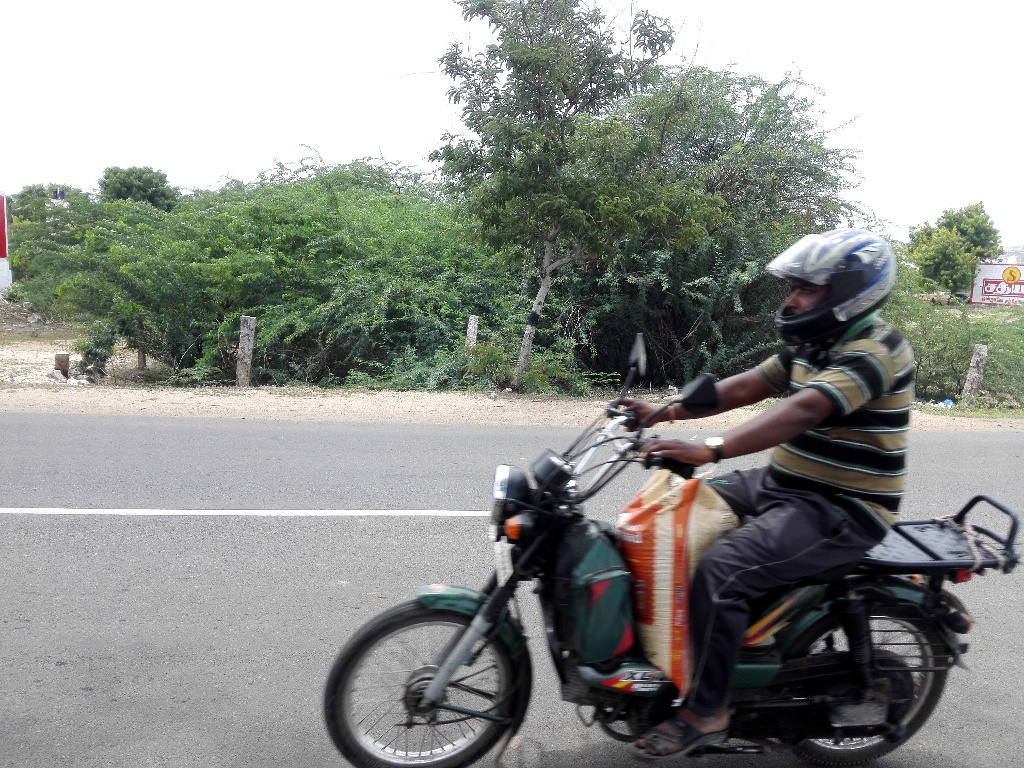biker: (310, 144, 1024, 768)
helmet: (747, 205, 923, 365)
